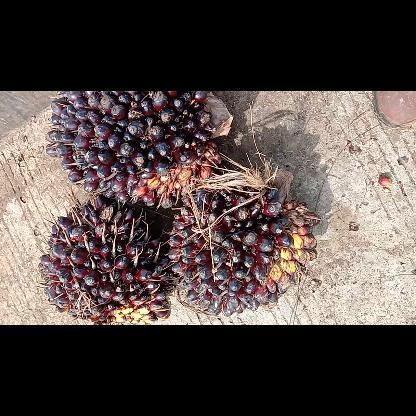TBS mentah: (42, 90, 238, 209), (166, 169, 322, 316), (39, 194, 175, 324)
